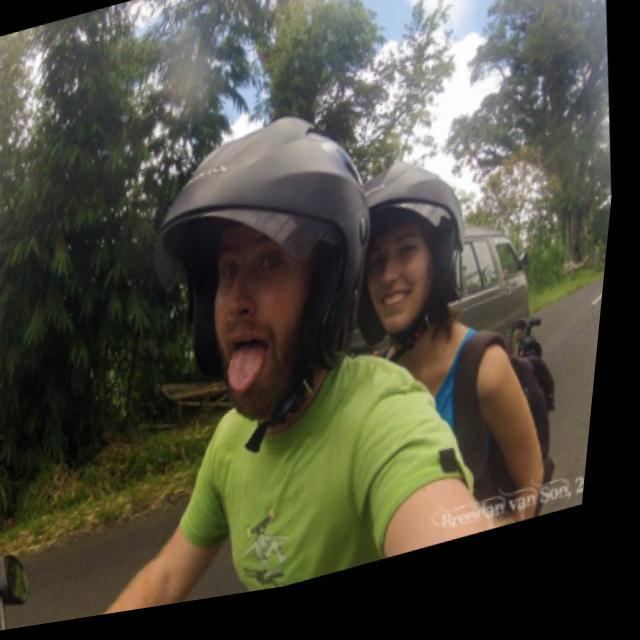Helmet: (153, 113, 372, 422), (355, 147, 477, 352)
